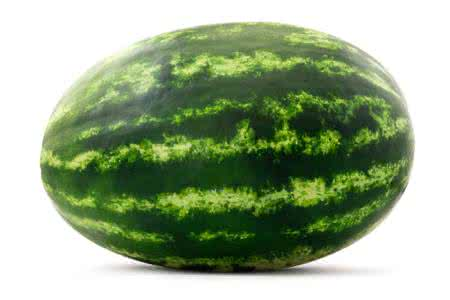watermelon: (43, 30, 433, 273)
